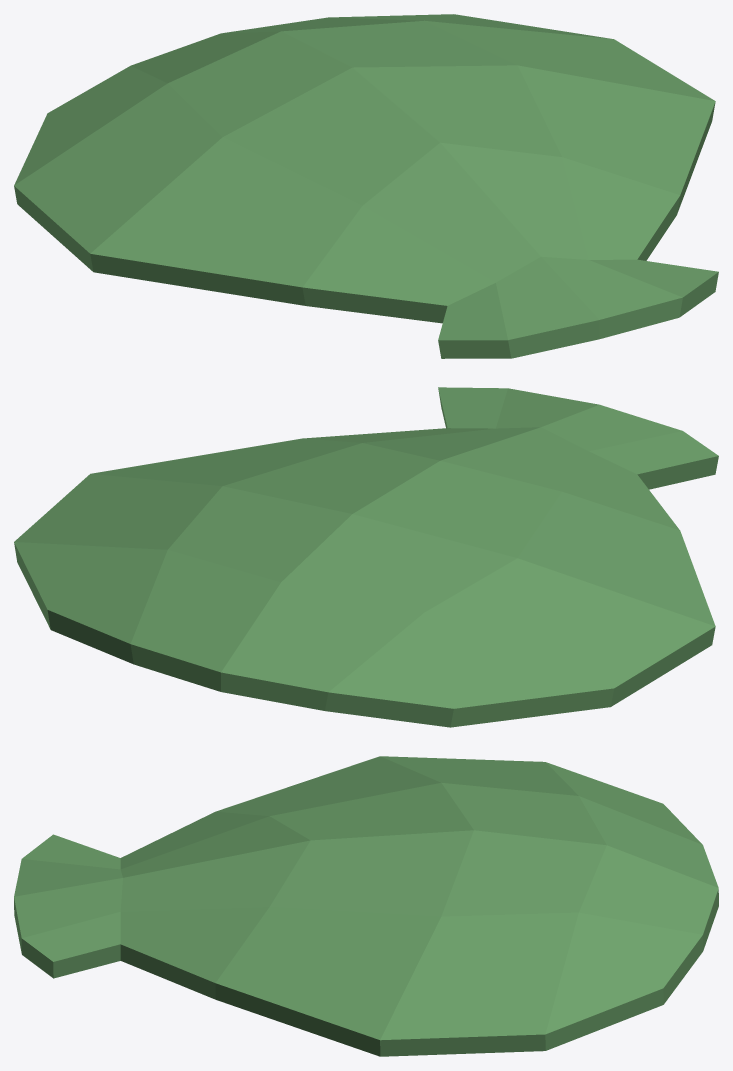
The model's file is Płaska.fbx.
The picture shows the model from 3 angles, top to bottom: view 1: azimuth 30°, elevation 25°; view 2: azimuth 150°, elevation 25°; view 3: azimuth 270°, elevation 25°; orthographic projection. The views are drawn at different scales.
Parts seen in each view (by area): view 1: Fan.003; view 2: Fan.003; view 3: Fan.003.
Boxes of the visible parts, x1,y1,x2,y2 form: Fan.003: (14,14,718,358); Fan.003: (14,387,718,727); Fan.003: (14,756,718,1056).
Size of the model in its own units: 208 by 30.43 by 218.
